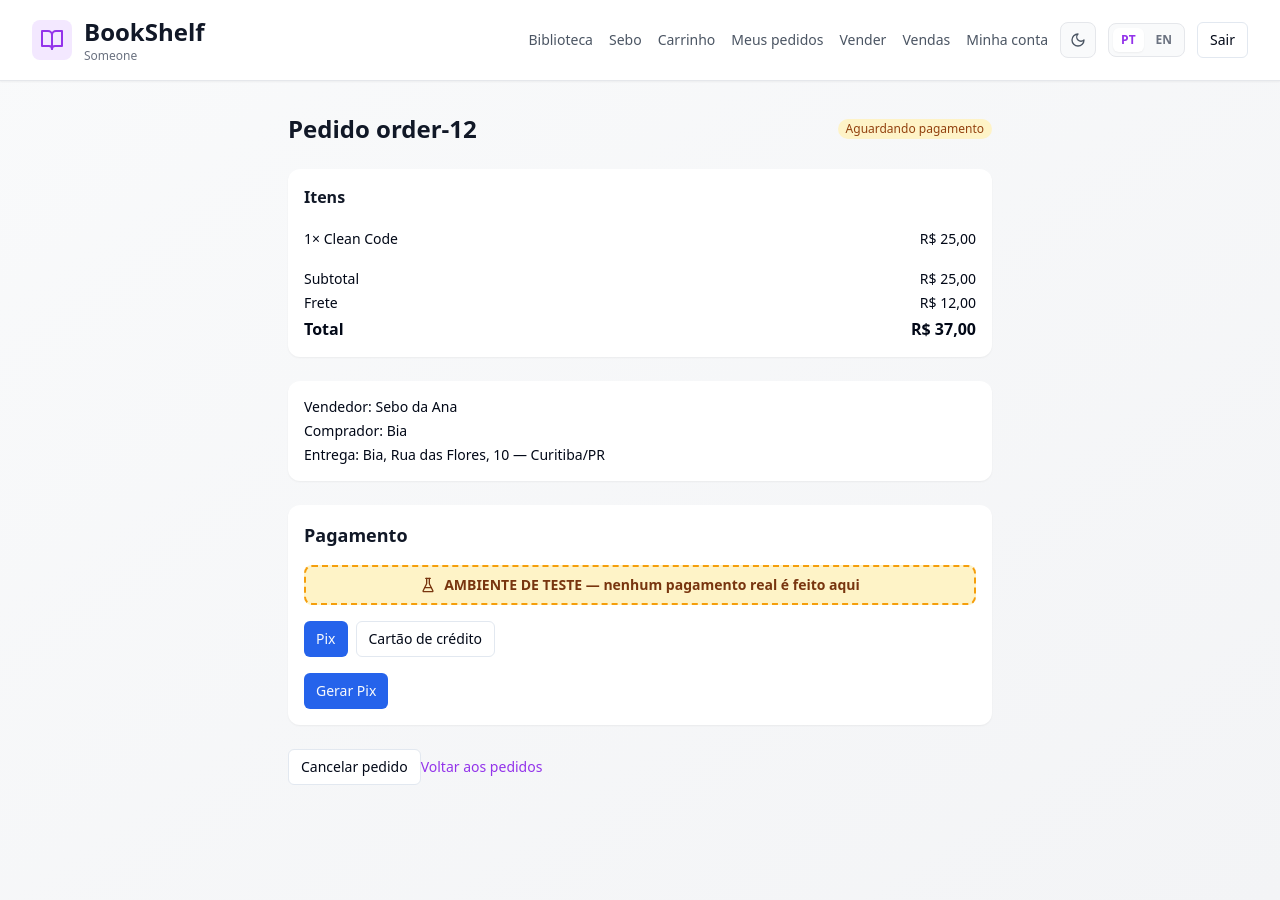
Test: OrderPage as the buyer › pays with a test card
Step 1. Click the tab with test id "payment-method-card" → (425, 639), box [356,621,495,657]
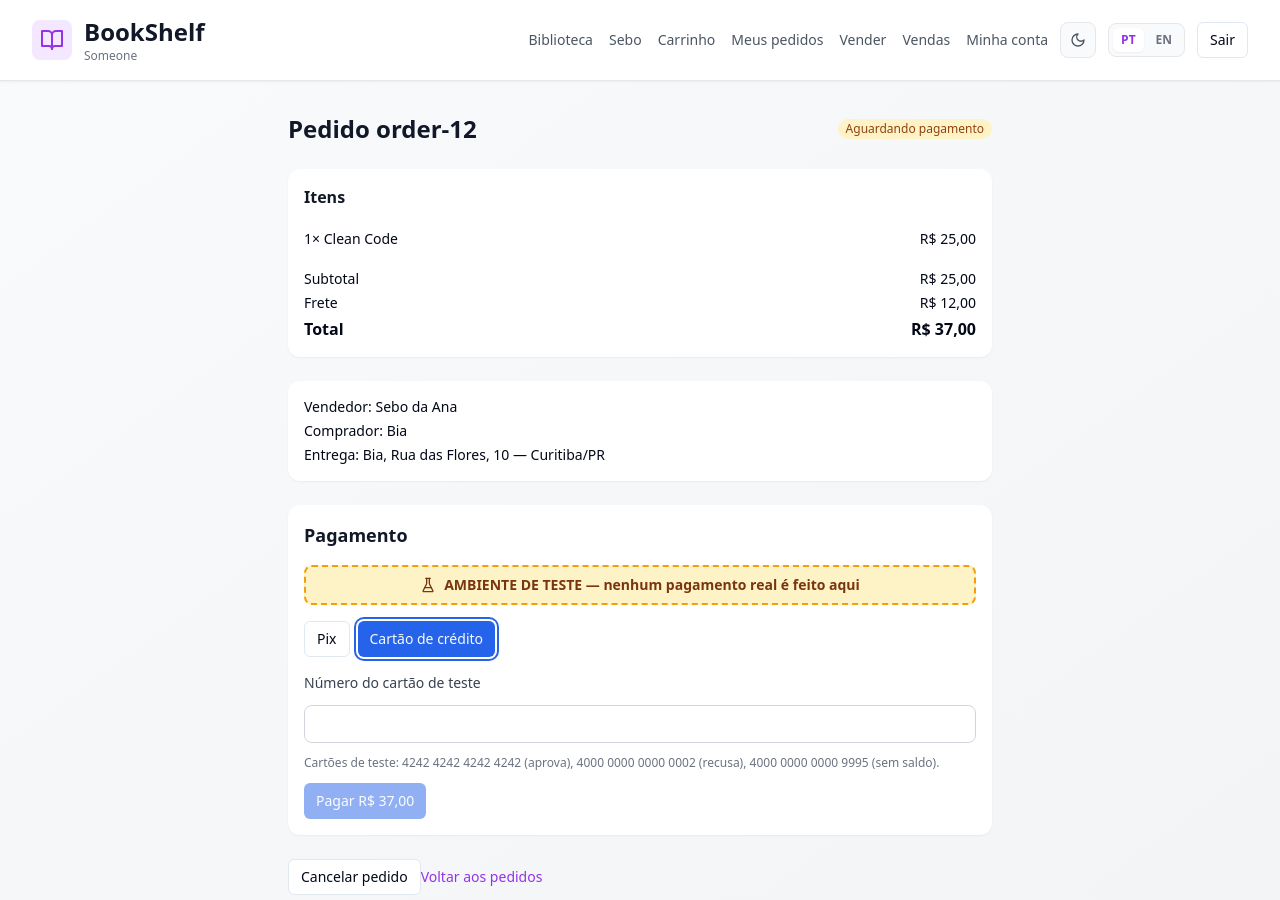
Check: the button with test id "pay-card-button" is disabled, box [304,783,426,819]
Step 2. Type "4242424242424242" into the field with test id "card-number-input" → (640, 724), box [304,705,976,743]
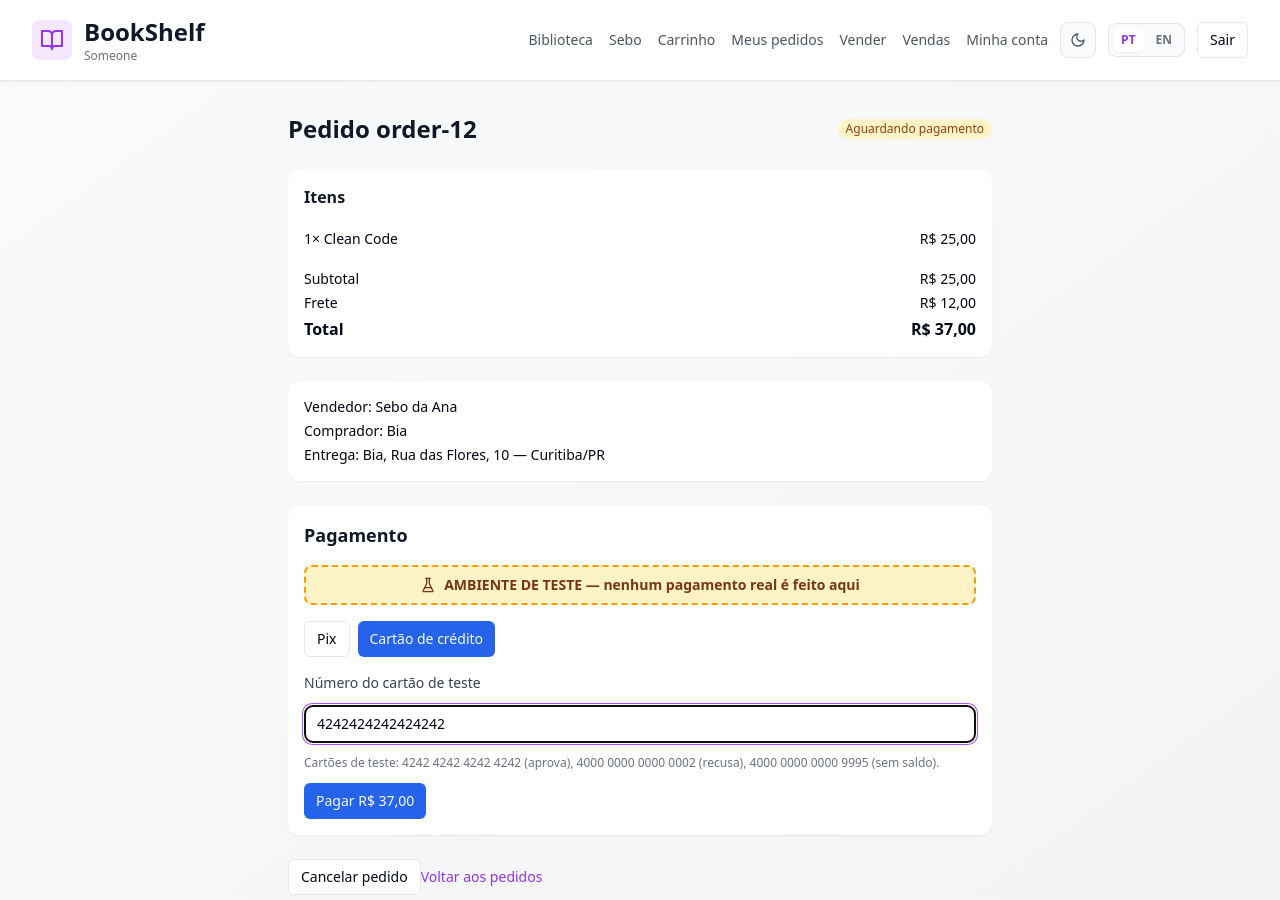
Step 3. Click the button with test id "pay-card-button" → (365, 801), box [304,783,426,819]
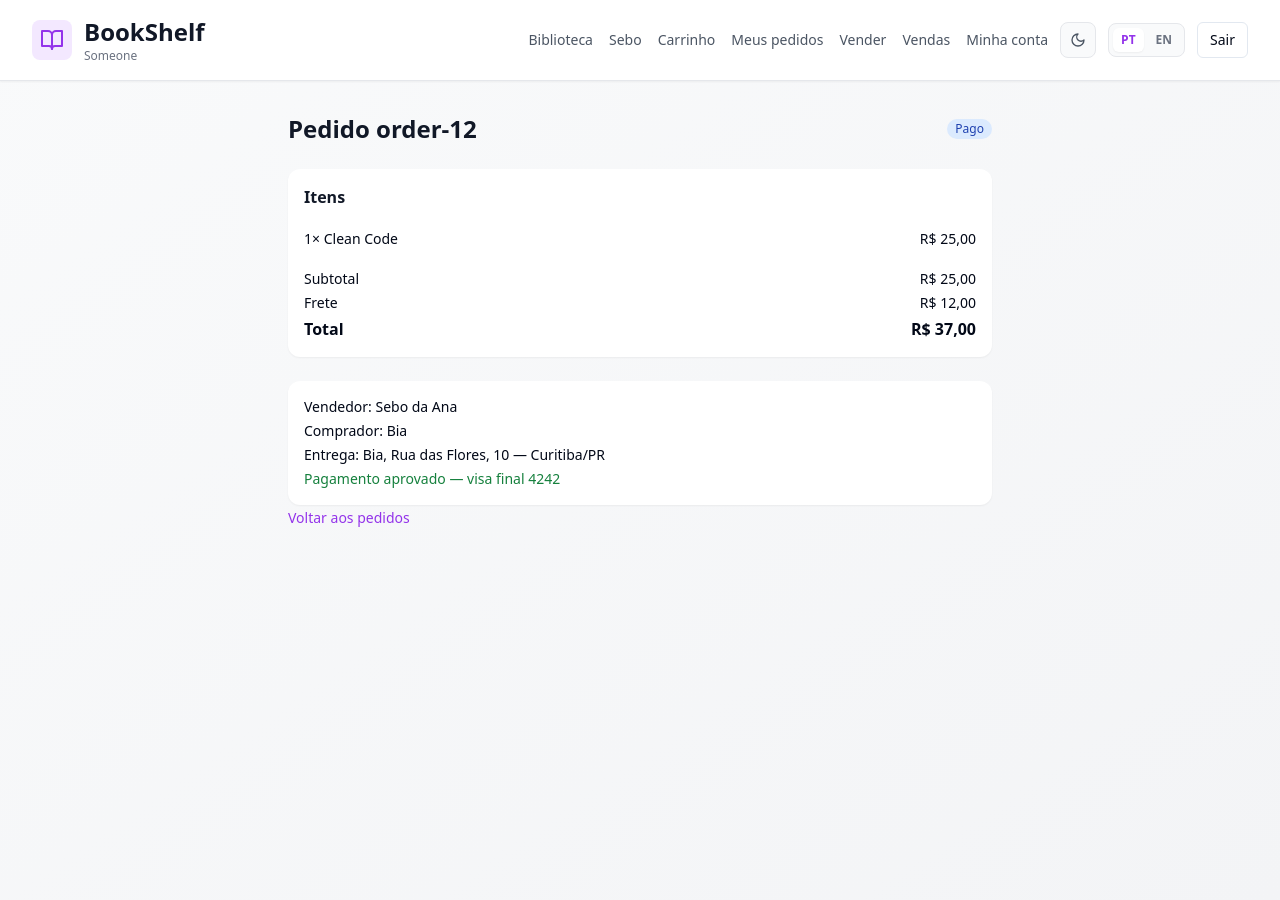
Check: the text with test id "order-paid-note" shows "visa final 4242", box [446,469,560,488]
